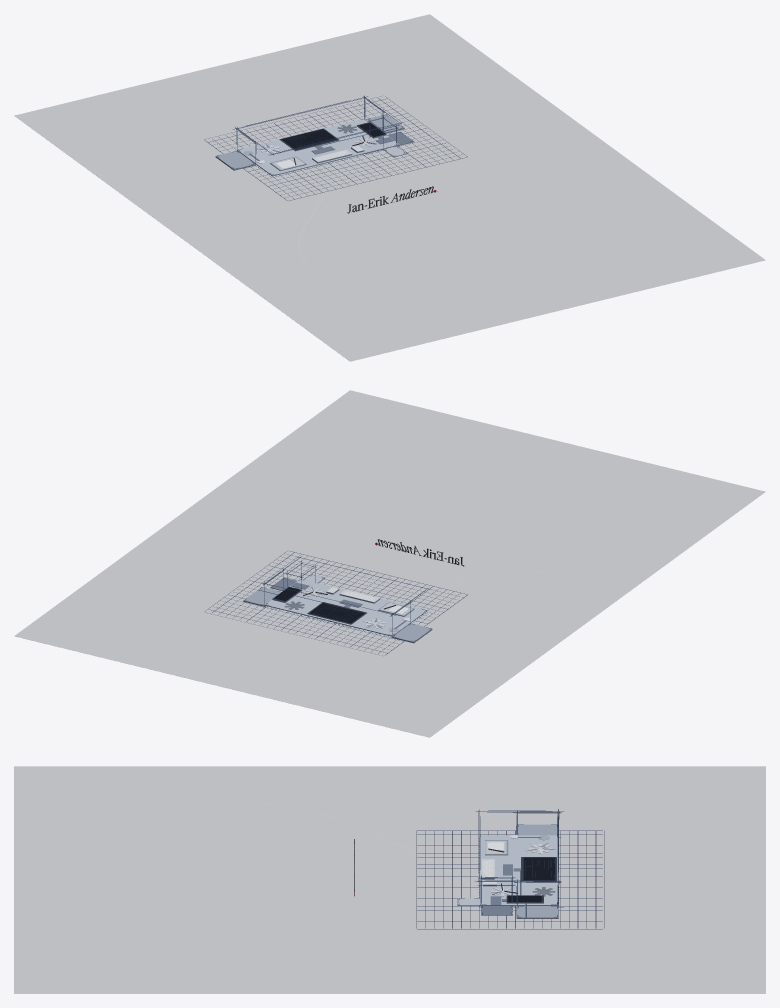
The model's file is eroeffnung-breit.glb.
3 views of the same model, one above another, from view 1: azimuth 30°, elevation 25°; view 2: azimuth 150°, elevation 25°; view 3: azimuth 270°, elevation 25° (orthographic). The views are drawn at different scales.
Parts seen in each view (by area): view 1: Bogen, Bau_Welt, D_Platte, M_Schirm; view 2: Bogen, Bau_Welt, D_Platte, M_Schirm; view 3: Bogen, Bau_Welt, D_Platte, M_Schirm, D_BeinR, D_BeinL.
Boxes of the visible parts, x1,y1,x2,y2 form: Bogen: (14,14,765,361); Bau_Welt: (204,95,467,212); D_Platte: (237,118,399,176); M_Schirm: (279,128,339,151); Bogen: (14,390,765,737); Bau_Welt: (205,546,467,655); D_Platte: (265,579,427,636); M_Schirm: (307,602,366,624); Bogen: (14,766,765,993); Bau_Welt: (354,809,604,929); D_Platte: (479,835,557,905); M_Schirm: (521,857,556,881); D_BeinR: (517,906,558,918); D_BeinL: (517,824,557,835).
Size of what is drawn, in the model's own units: 30 by 1.99 by 42.
Materials: 27 (11 with a texture image).
